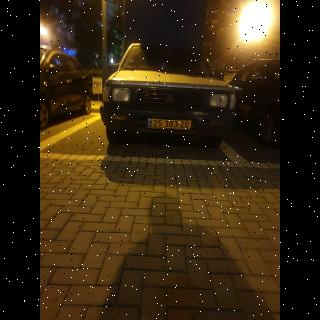LicensePlate: (152, 119, 191, 129)
